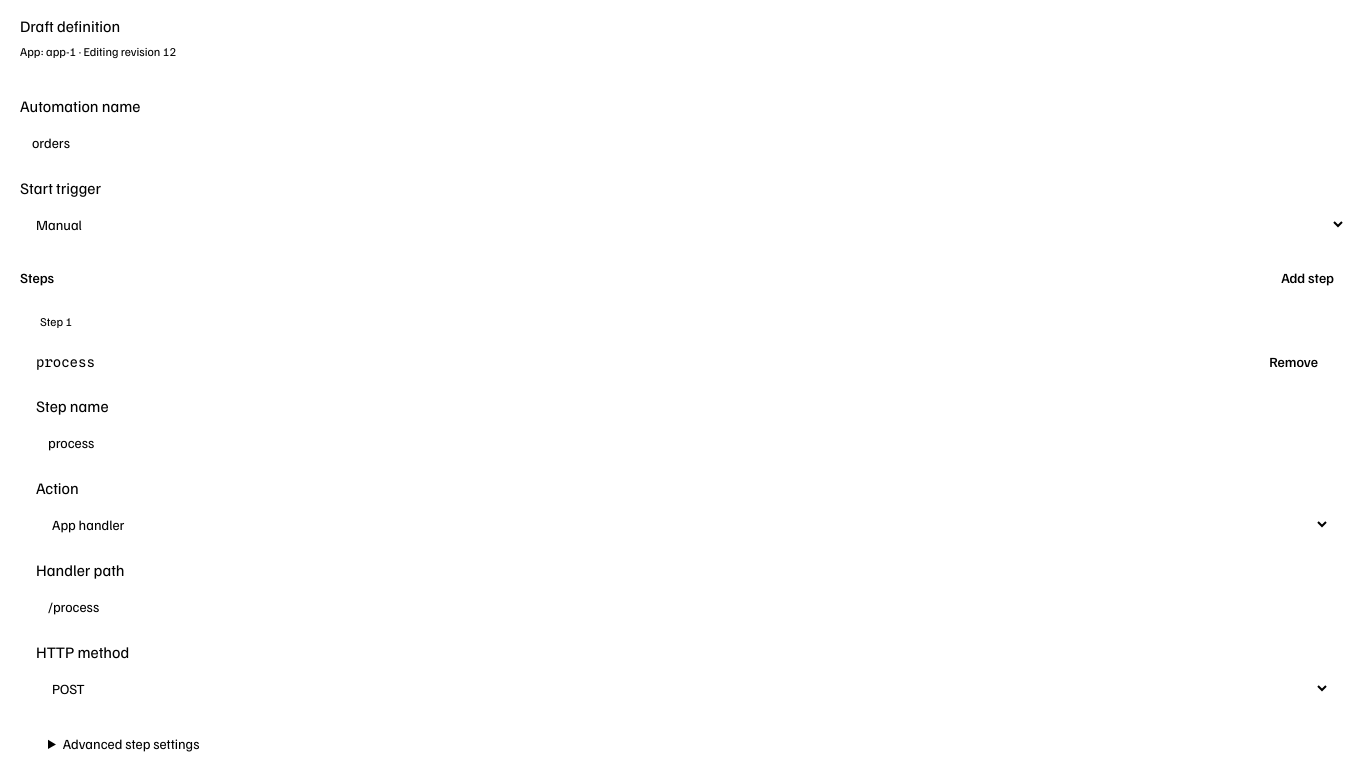
automation editor write boundaries › saves a draft against the observed revision without publishing it
Step 1. Type "/changed" into the field labelled "Handler path" → (683, 606), box [36,588,1330,624]
(page scrolled)
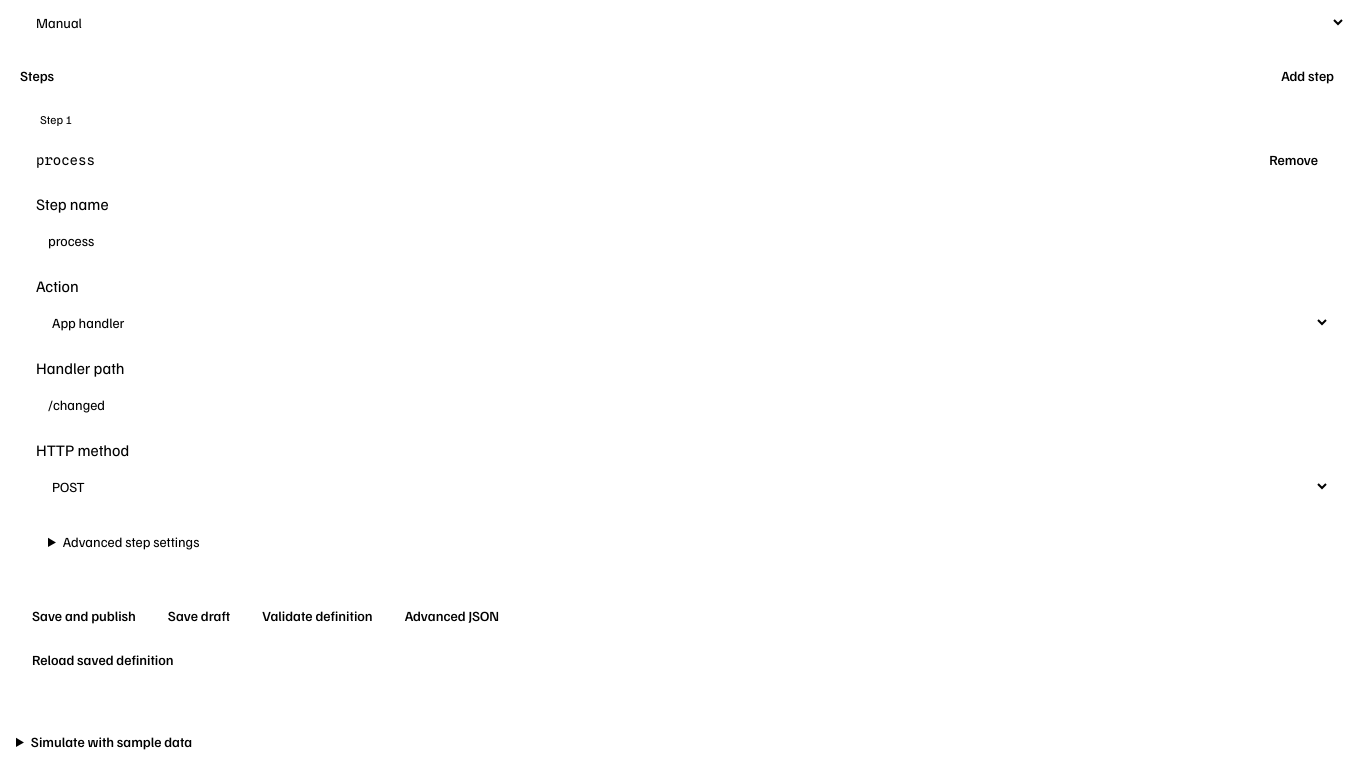
Check: the button "Save and publish" is enabled, box [20,600,148,632]
Step 2. Click the button "Save draft" → (199, 616), box [156,600,242,632]
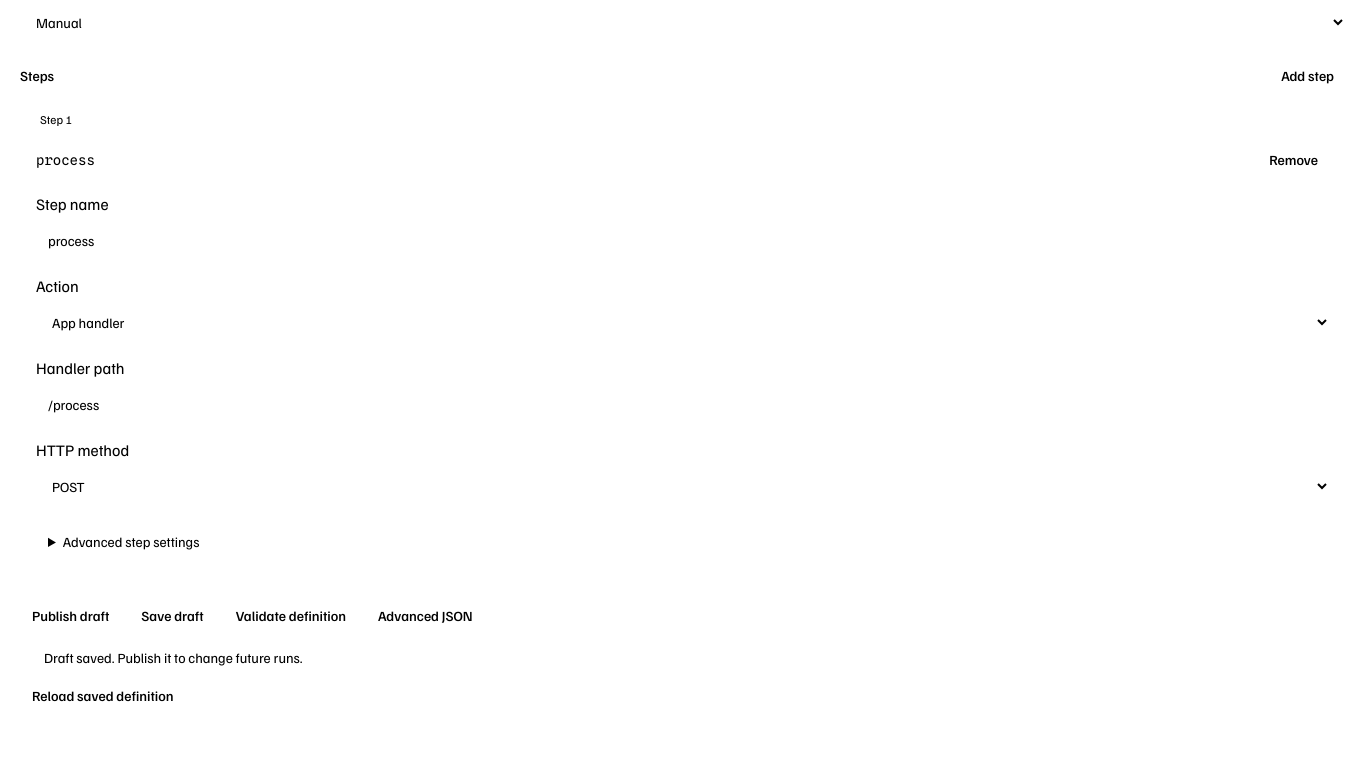
Check: the text "Draft saved. Publish it to change future runs." is shown, box [44,649,303,666]
